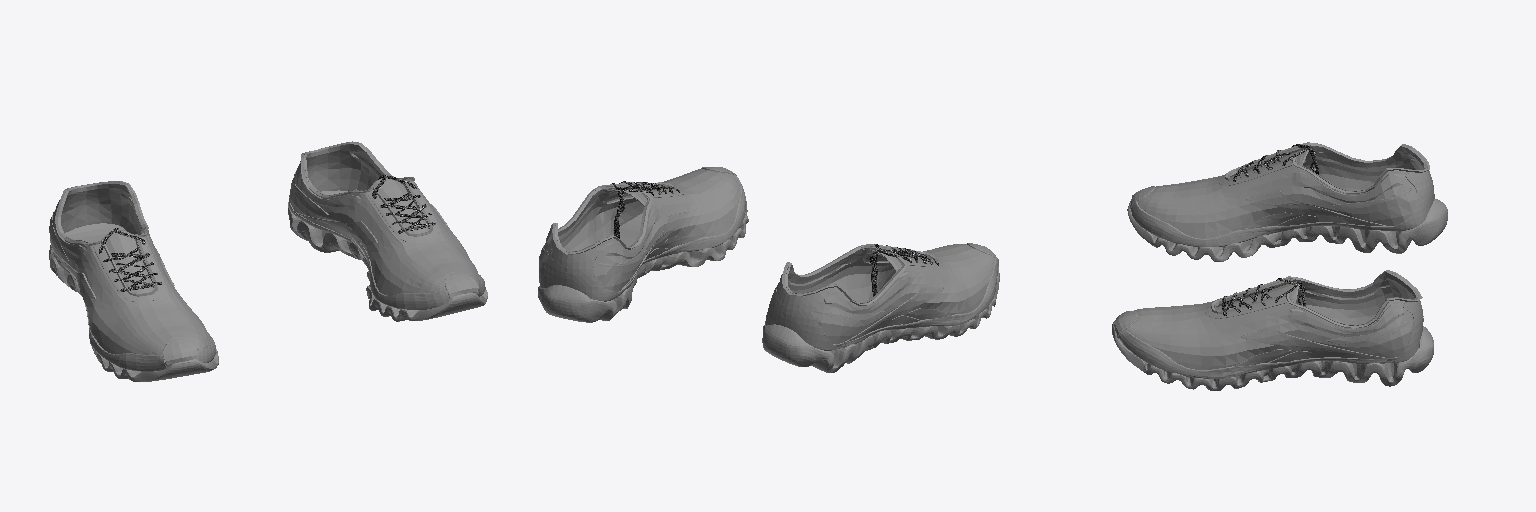
3 views of the same model, side by side, from view 1: azimuth 30°, elevation 25°; view 2: azimuth 150°, elevation 25°; view 3: azimuth 270°, elevation 25° (orthographic).
Visible parts, largest first — view 1: AM_102_062_003, AM_102_062_005, AM_102_062_004, AM_102_062_002; view 2: AM_102_062_005, AM_102_062_003, AM_102_062_004, AM_102_062_002; view 3: AM_102_062_003, AM_102_062_005, AM_102_062_002, AM_102_062_004.
Part boxes in pixels (x1,y1,x2,y2): AM_102_062_003: (288, 141, 487, 321); AM_102_062_005: (49, 181, 218, 381); AM_102_062_004: (99, 228, 161, 291); AM_102_062_002: (372, 175, 435, 233); AM_102_062_005: (762, 243, 999, 372); AM_102_062_003: (538, 167, 748, 322); AM_102_062_004: (869, 244, 938, 296); AM_102_062_002: (612, 181, 680, 238); AM_102_062_003: (1112, 270, 1433, 390); AM_102_062_005: (1127, 142, 1447, 261); AM_102_062_002: (1222, 278, 1305, 315); AM_102_062_004: (1233, 144, 1318, 181).
Size of the model in its own units: 47.27 by 12.67 by 37.97.
Materials: 4 (1 with a texture image).